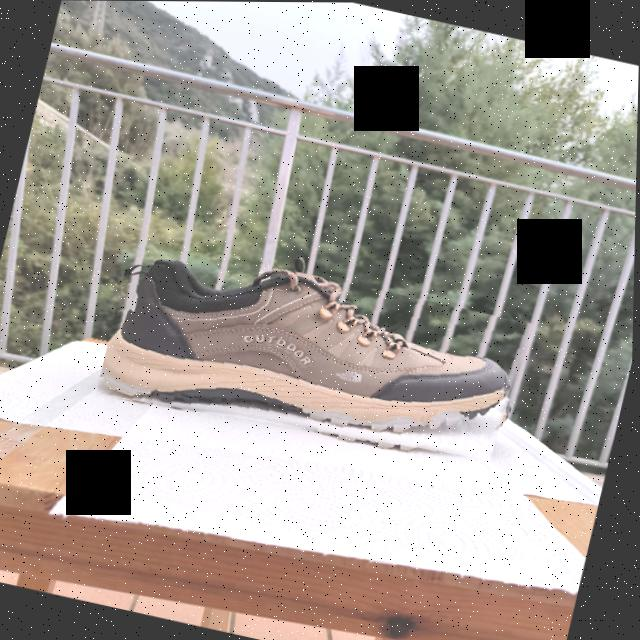shoe: (96, 235, 537, 483)
